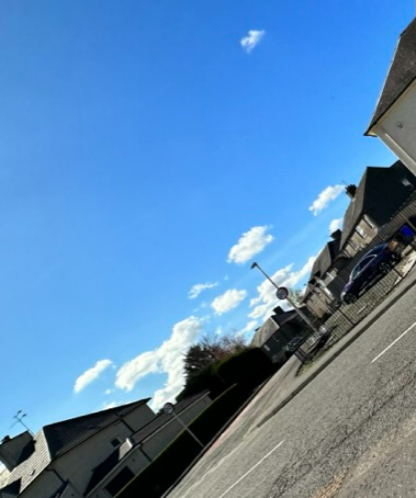car: (321, 235, 408, 307)
